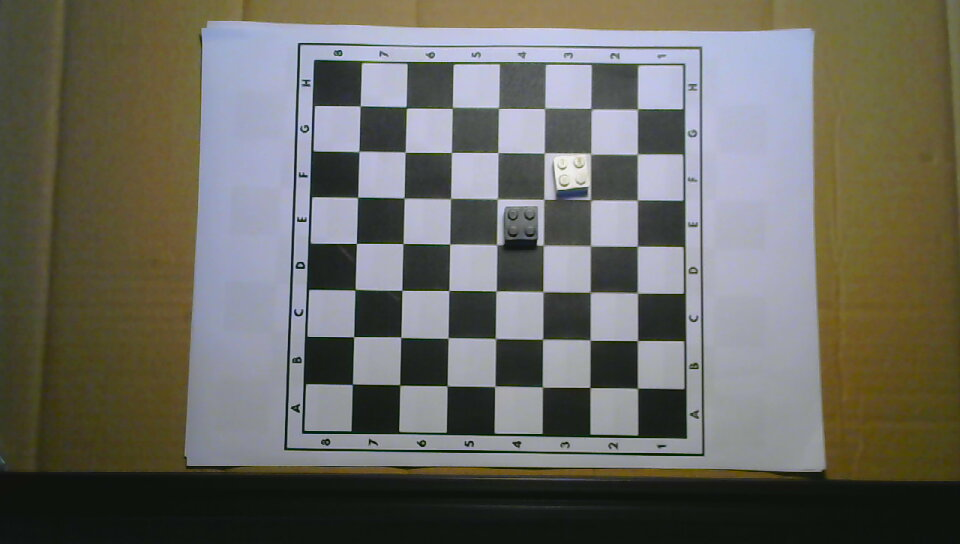bp: (502, 204, 540, 245)
wp: (552, 153, 591, 196)
